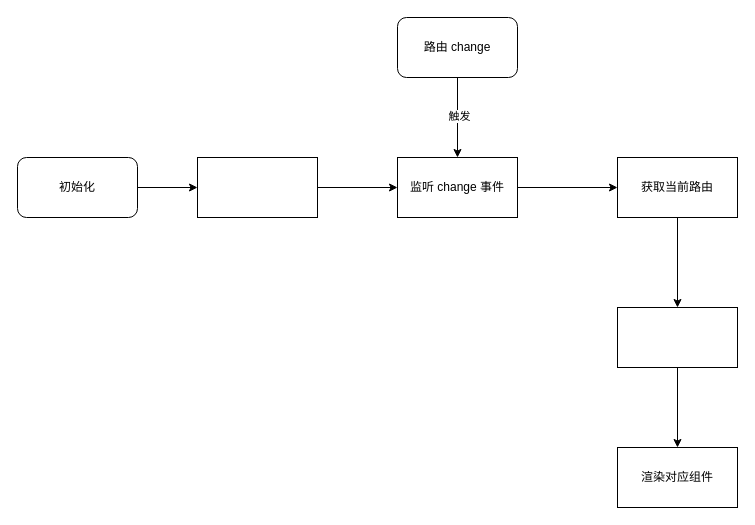
This 755x525 diagram has some shape labels left out. The shapes that lost their labels are listed below. From the top down, each one's box as (x1, y1, x2, y2) in pixels, then its label:
(196, 156, 318, 218): 注册 routes
(616, 306, 738, 368): 在 routes 中找到 对应路由 route
